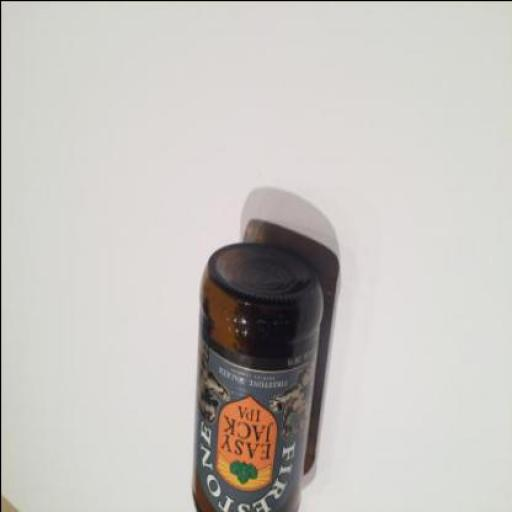glass: (191, 241, 322, 511)
